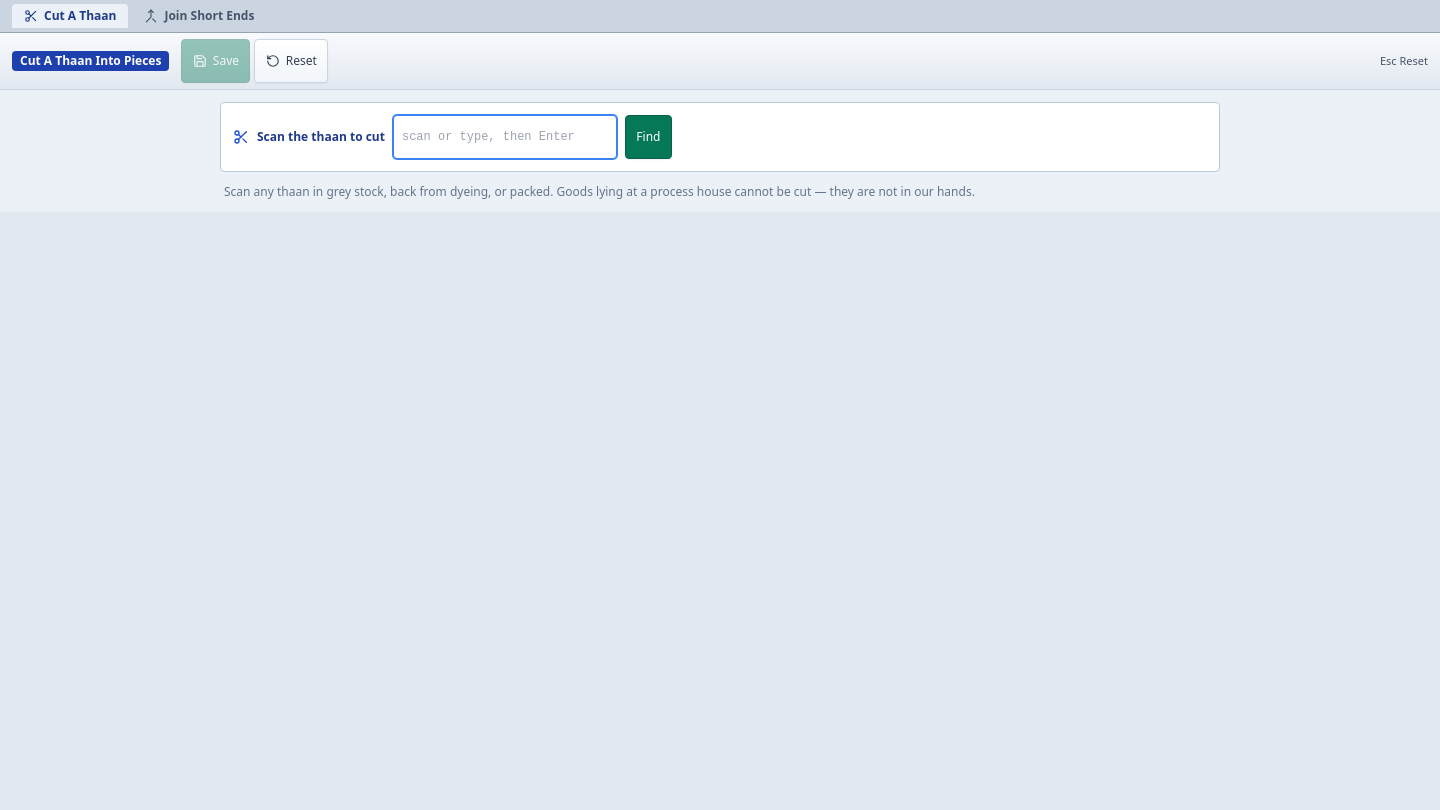
Scenario: cutting a thaan › the remainder is on screen the whole time
This screenshot has width=1440, height=810.
Type "NKT001" into the field labelled "Scan the thaan to cut" at coordinates (505, 137), box [393, 115, 617, 159]
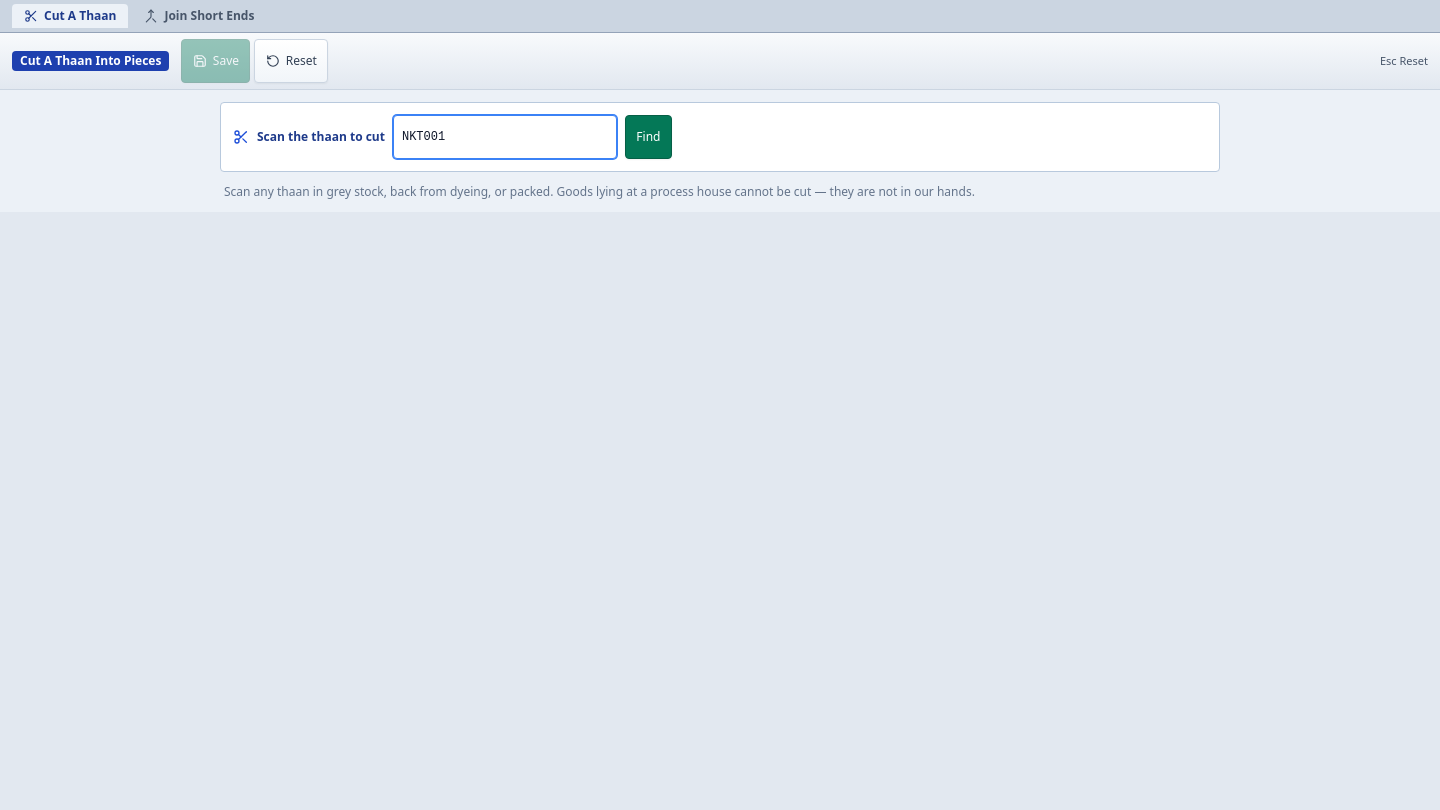
Click the button "Find" at coordinates (648, 137), box [625, 115, 672, 159]
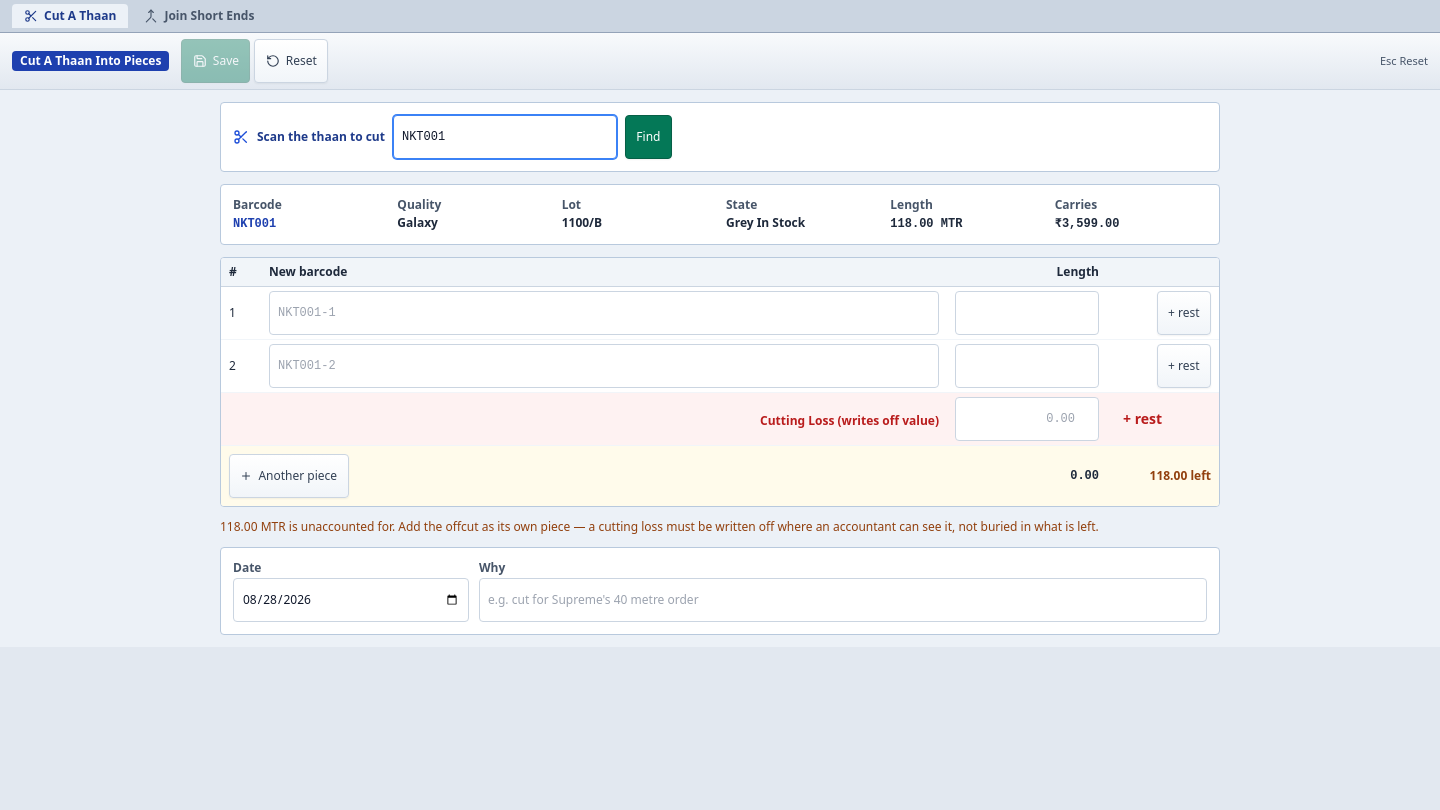
Now the text "NKT001" is shown, box [233, 217, 276, 231]
Type "40" into the 1st number field at coordinates (1027, 313), box [955, 291, 1099, 335]
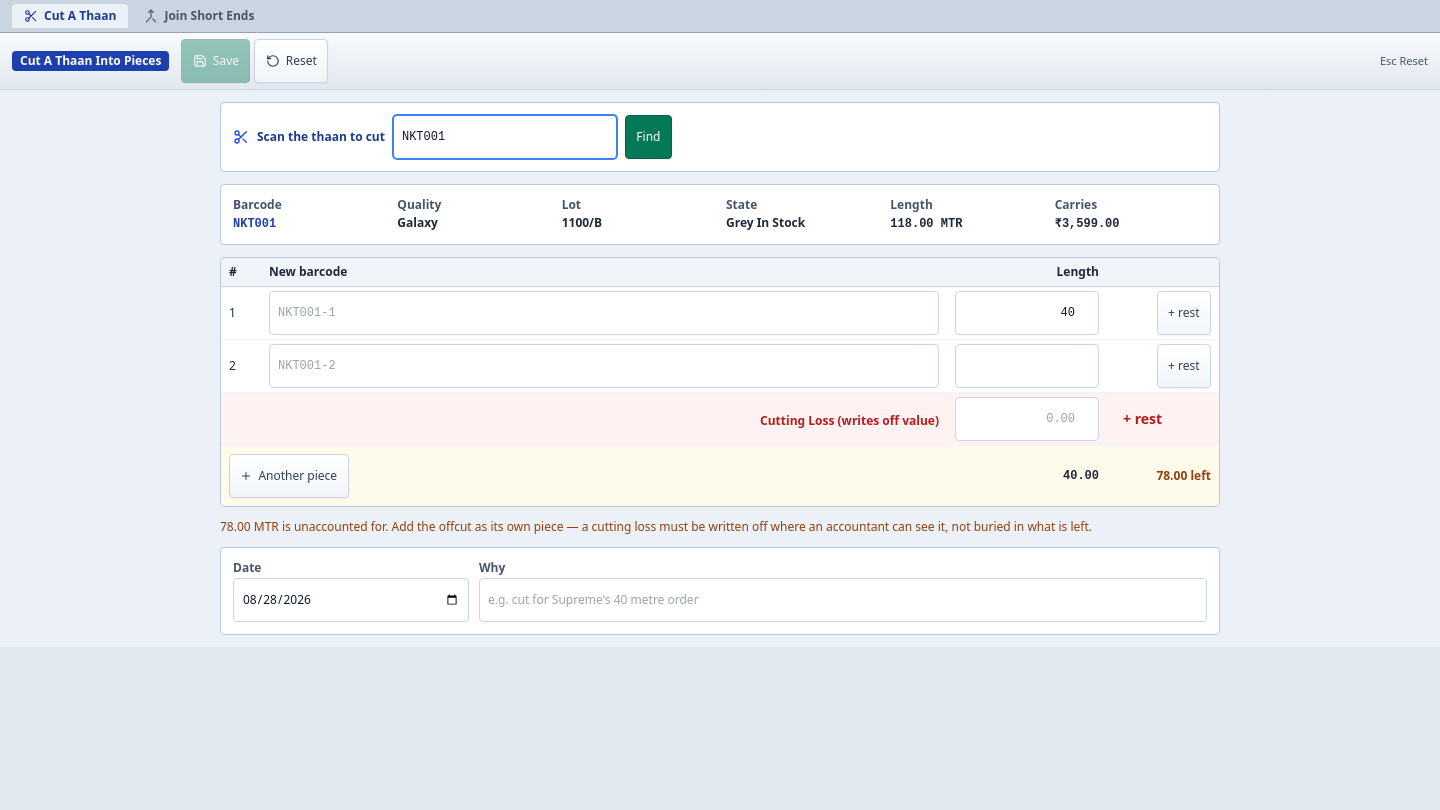
Type "40" into the 2nd number field at coordinates (1027, 366), box [955, 344, 1099, 388]
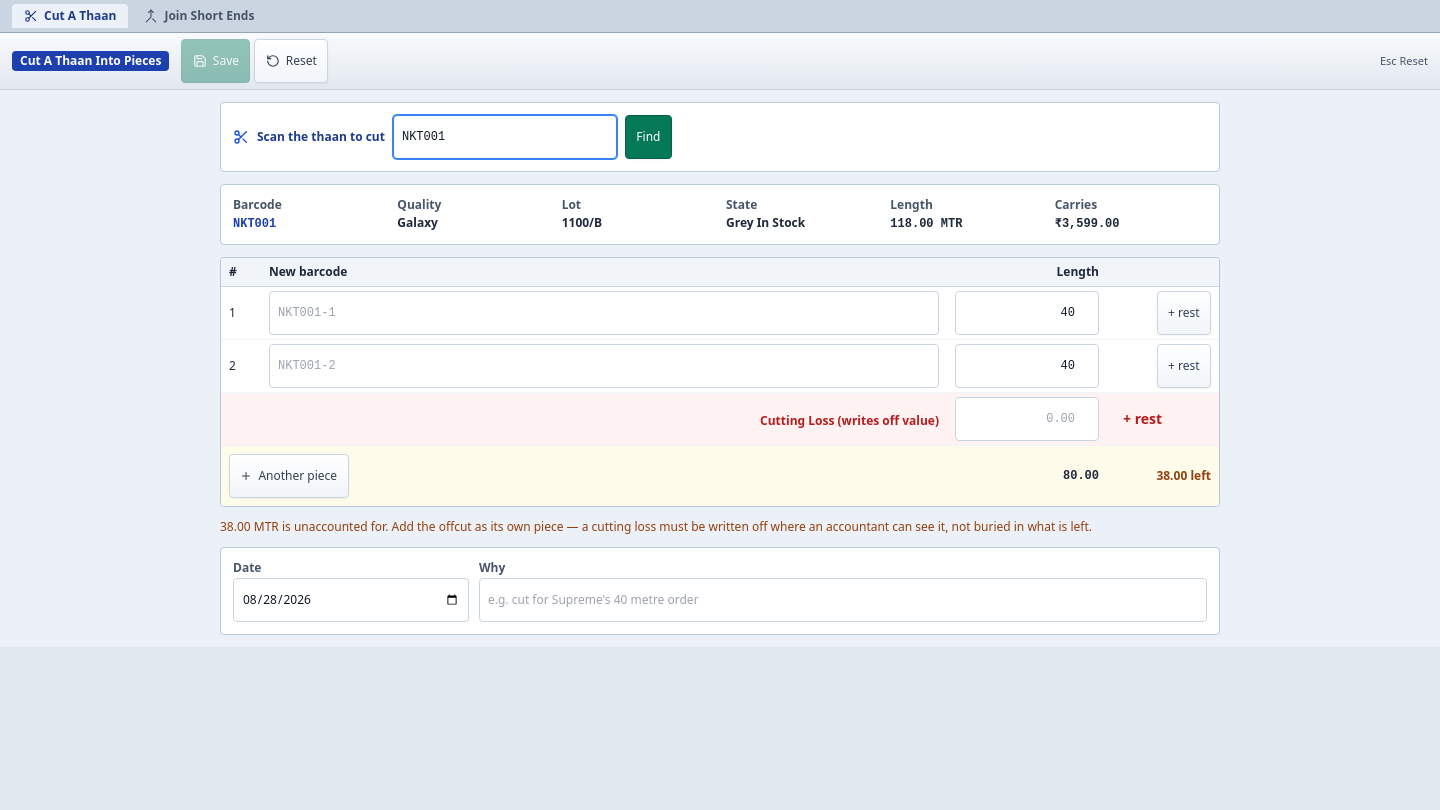
Now the text "38.00 left" is shown, box [1156, 467, 1211, 484]
Now the text "38.00 MTR is unaccounted for" is shown, box [220, 519, 1220, 535]
